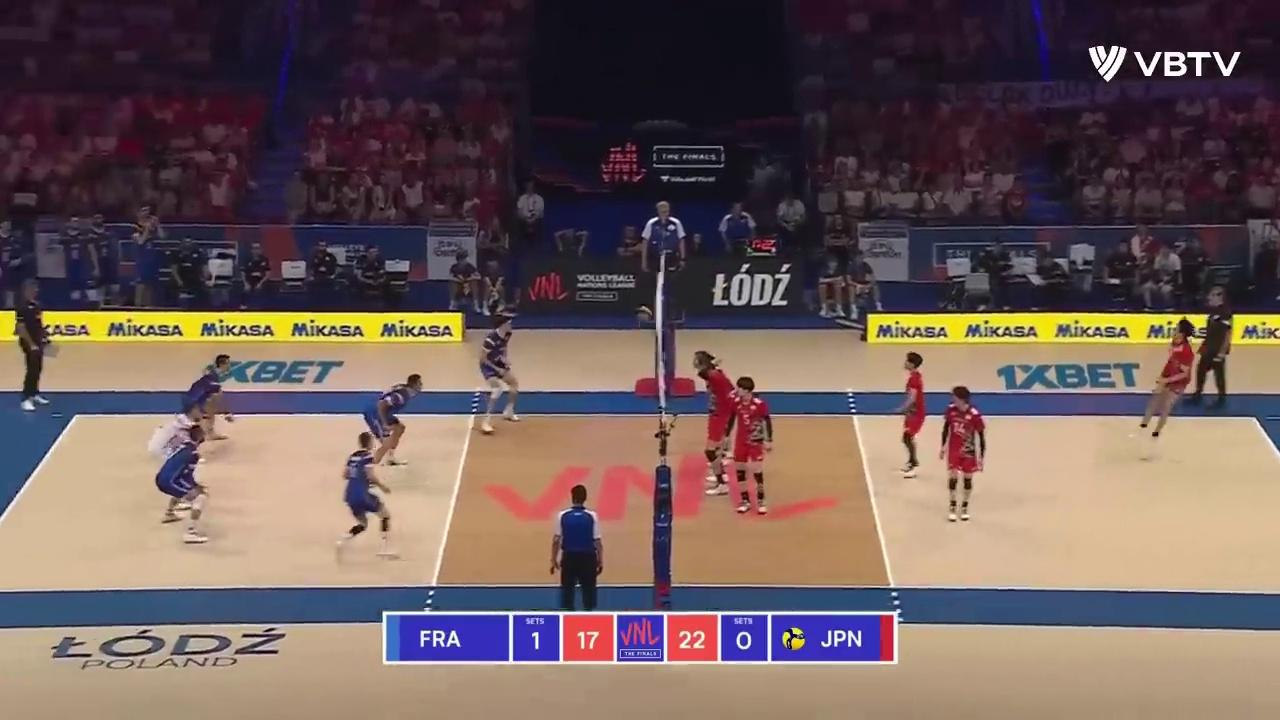ball: (636, 307, 653, 322)
